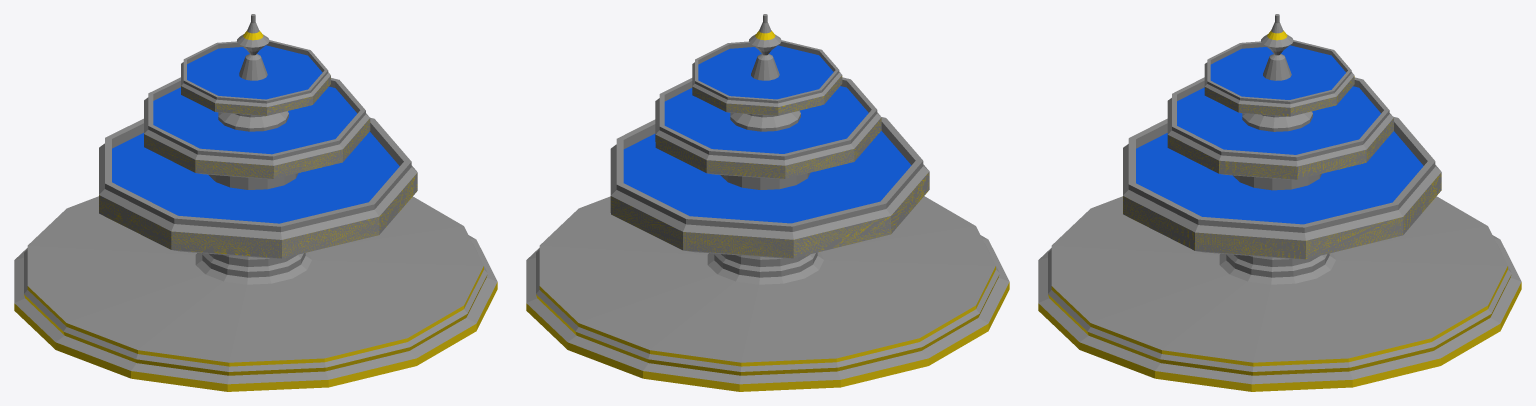
The model's file is Fountain.glb.
3 renders of one model, left to right at view 1: azimuth 30°, elevation 25°; view 2: azimuth 150°, elevation 25°; view 3: azimuth 270°, elevation 25°, orthographic.
Visible parts, largest first — view 1: Cylinder; view 2: Cylinder; view 3: Cylinder.
Part boxes in pixels (left/top/right/bottom): Cylinder: left=14, top=14, right=497, bottom=391; Cylinder: left=526, top=14, right=1009, bottom=391; Cylinder: left=1038, top=14, right=1521, bottom=391.
Size of the model in its own units: 10.48 by 6.53 by 10.42.
